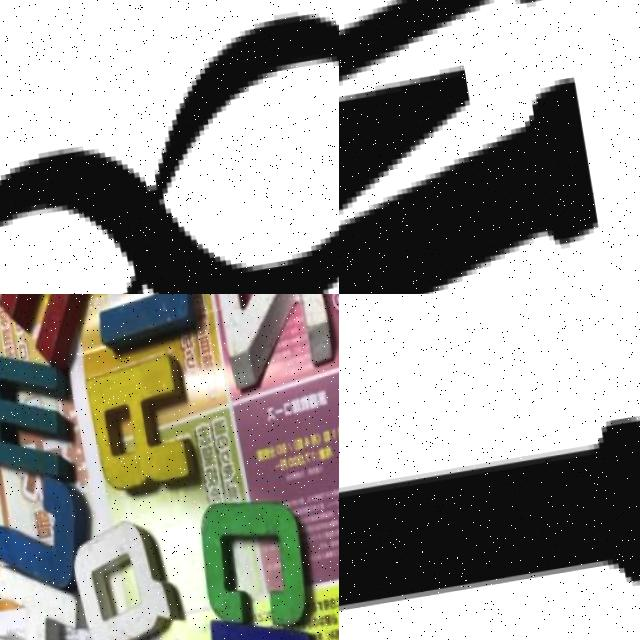8: (0, 0, 339, 294)
C: (195, 497, 312, 636)
H: (0, 560, 95, 640)
J: (0, 462, 93, 607)
M: (339, 0, 613, 294), (0, 351, 76, 492)
Q: (64, 520, 182, 640)
R: (81, 352, 200, 502)
T: (339, 351, 640, 640)
V: (88, 294, 205, 363)
Z: (206, 294, 339, 401)
